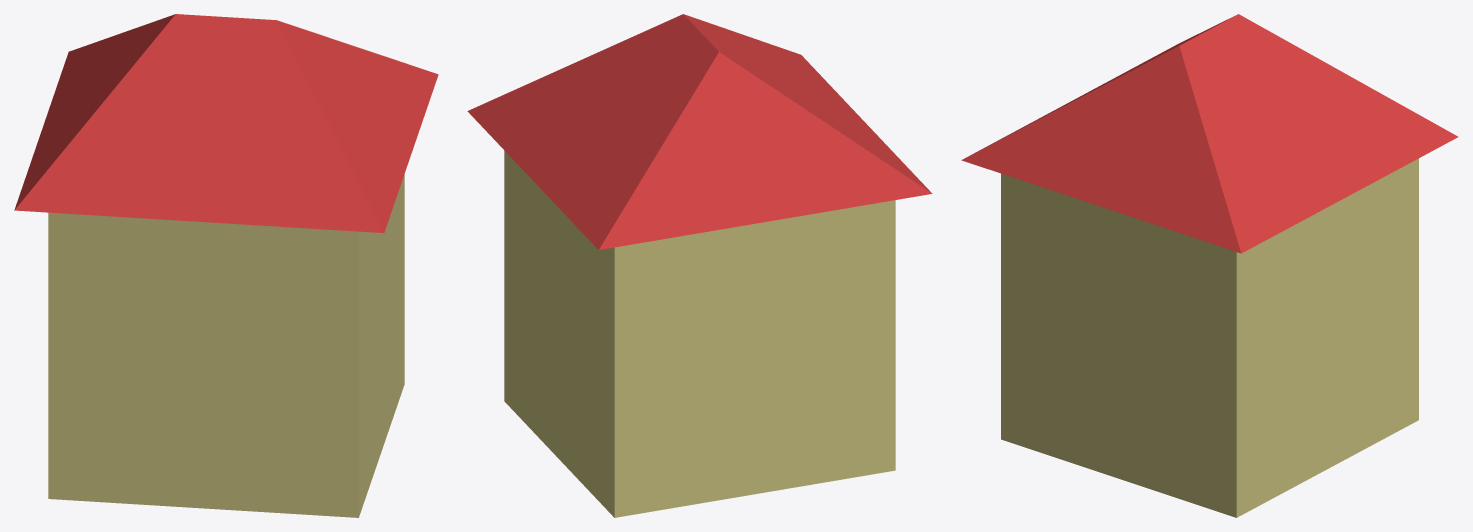
3 renders of one model, left to right at view 1: azimuth 30°, elevation 25°; view 2: azimuth 150°, elevation 25°; view 3: azimuth 270°, elevation 25°, orthographic. The views are drawn at different scales.
Visible parts, largest first — view 1: group_5, group_3, group_4; view 2: group_5, group_3, group_4; view 3: group_5, group_3, group_4.
Boxes of the visible parts, x1,y1,x2,y2 form: group_5: (48,174,404,517); group_3: (14,14,402,230); group_4: (14,62,438,232); group_5: (504,151,895,517); group_3: (467,14,932,249); group_4: (471,46,931,249); group_5: (1001,158,1418,517); group_3: (1008,14,1458,253); group_4: (961,41,1241,253).
Bounding box in the file's own units: 17.58 × 17.61 × 15.6.
